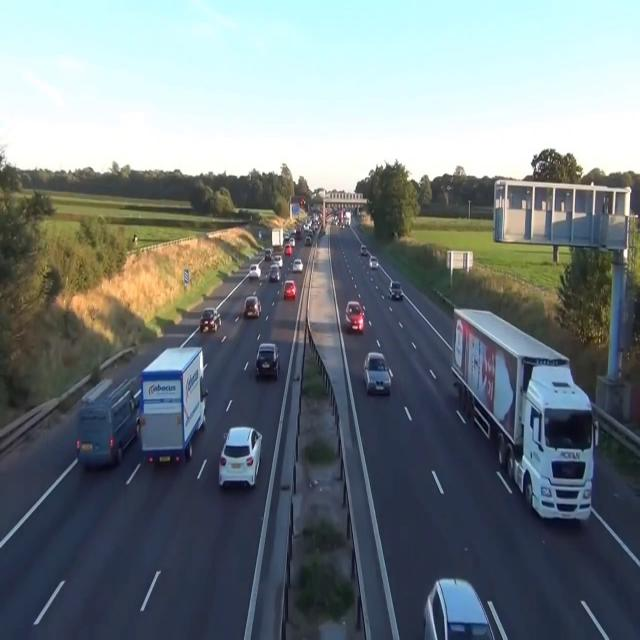belum terisi: (449, 294, 602, 546), (136, 336, 208, 473), (69, 368, 140, 470), (416, 567, 494, 640), (218, 413, 264, 492), (338, 289, 372, 335), (361, 344, 391, 396), (253, 336, 279, 390), (195, 300, 222, 340), (242, 298, 268, 327), (387, 276, 404, 308), (280, 276, 299, 300)
